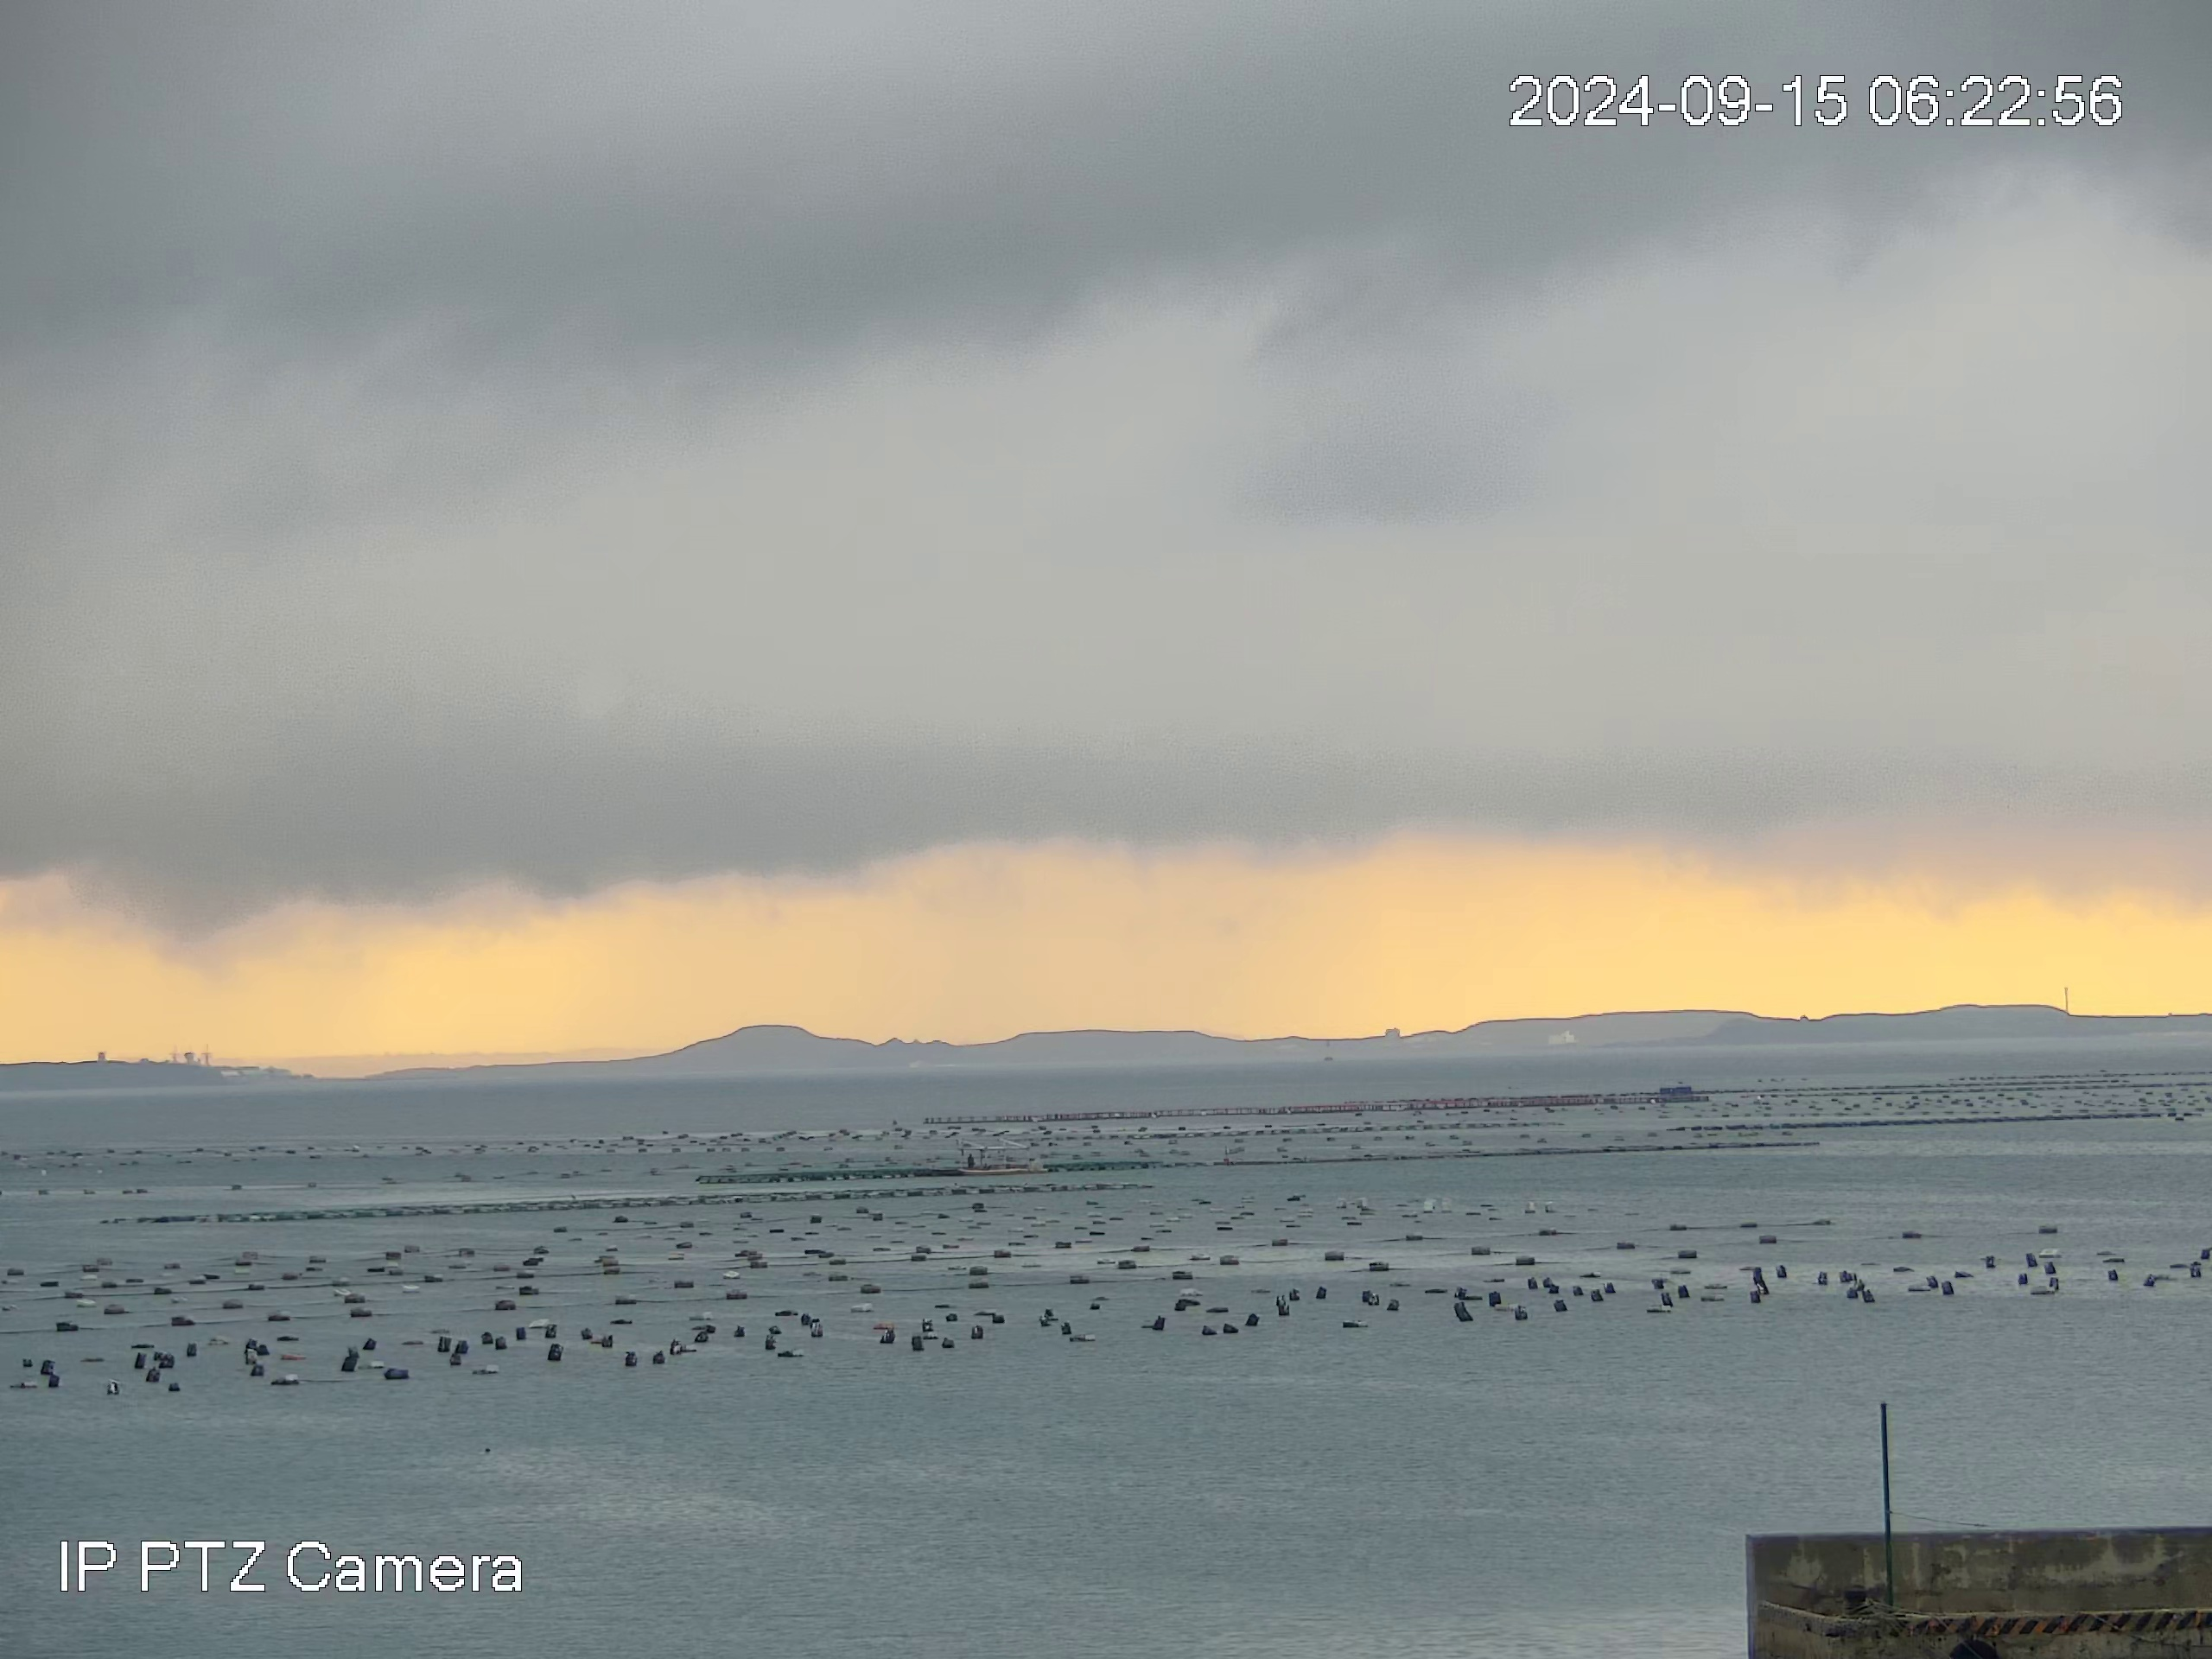boat: (958, 1138, 1045, 1176)
